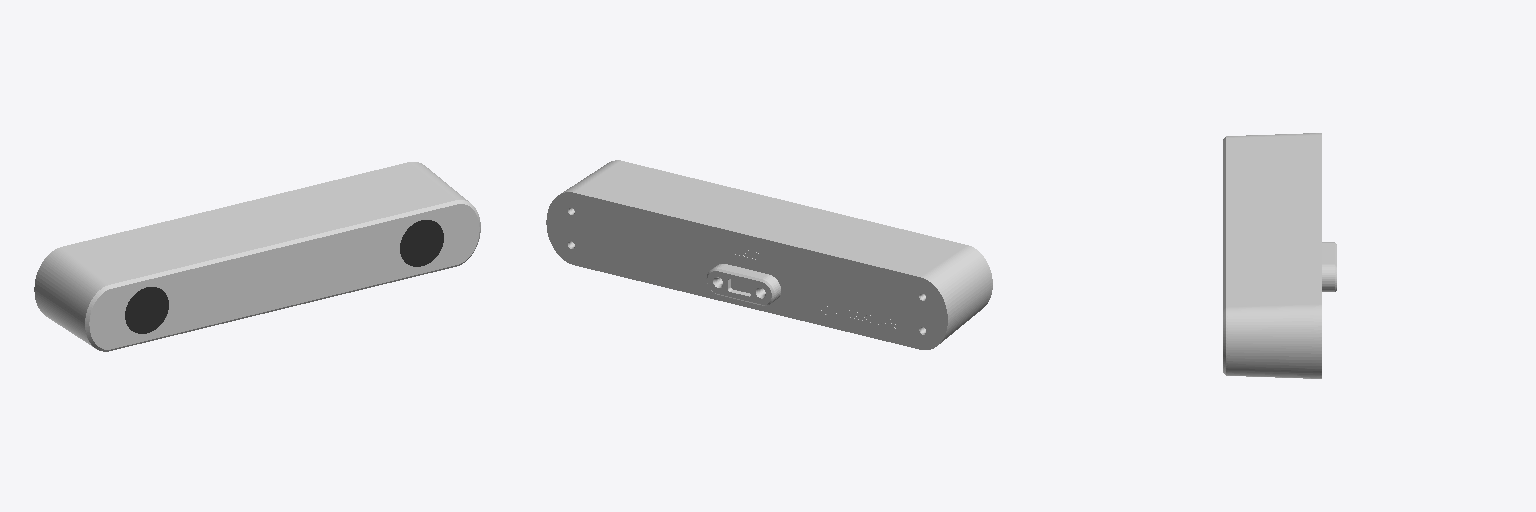
Rendered from ZED2i_obj.obj.
3 renders of one model, left to right at view 1: azimuth 30°, elevation 25°; view 2: azimuth 150°, elevation 25°; view 3: azimuth 270°, elevation 25°, orthographic.
Visible parts, largest first — view 1: obj1; view 2: obj1; view 3: obj1.
Boxes of the visible parts, x1=… form: obj1: x1=34, y1=162, x2=480, y2=351; obj1: x1=546, y1=160, x2=992, y2=349; obj1: x1=1223, y1=133, x2=1336, y2=378.
Size of the model in its own units: 175 by 30.25 by 43.1.